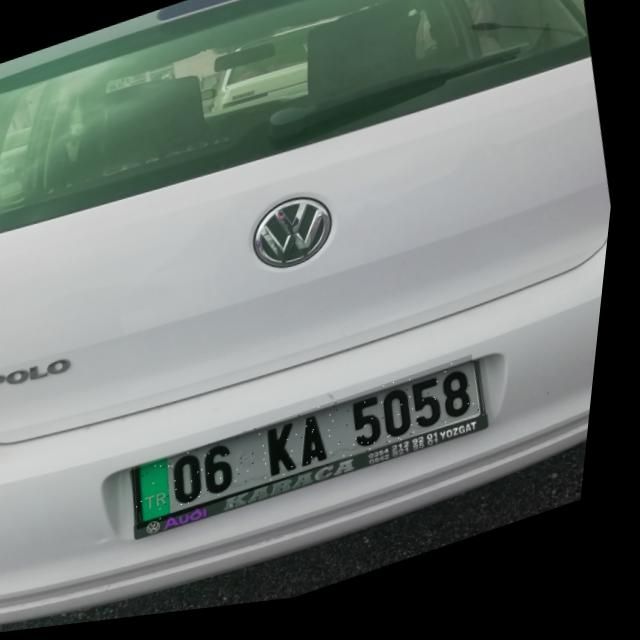license_plate: (135, 365, 494, 536)
